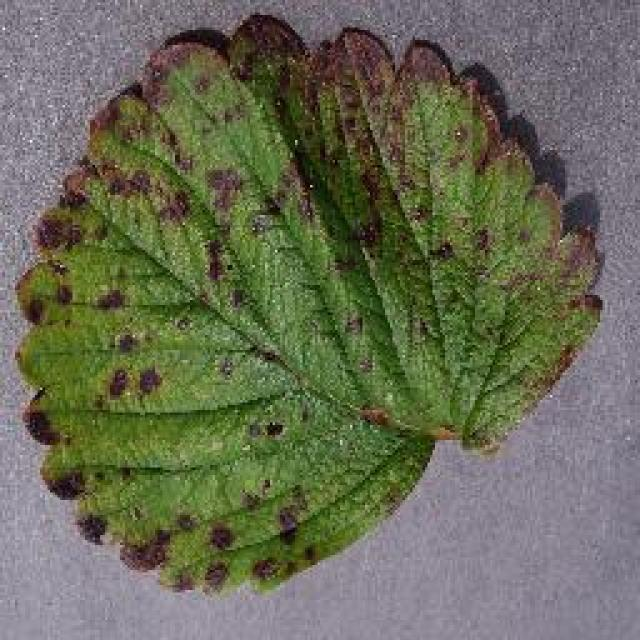Strawberry leaf scorch: (147, 128, 458, 477)
